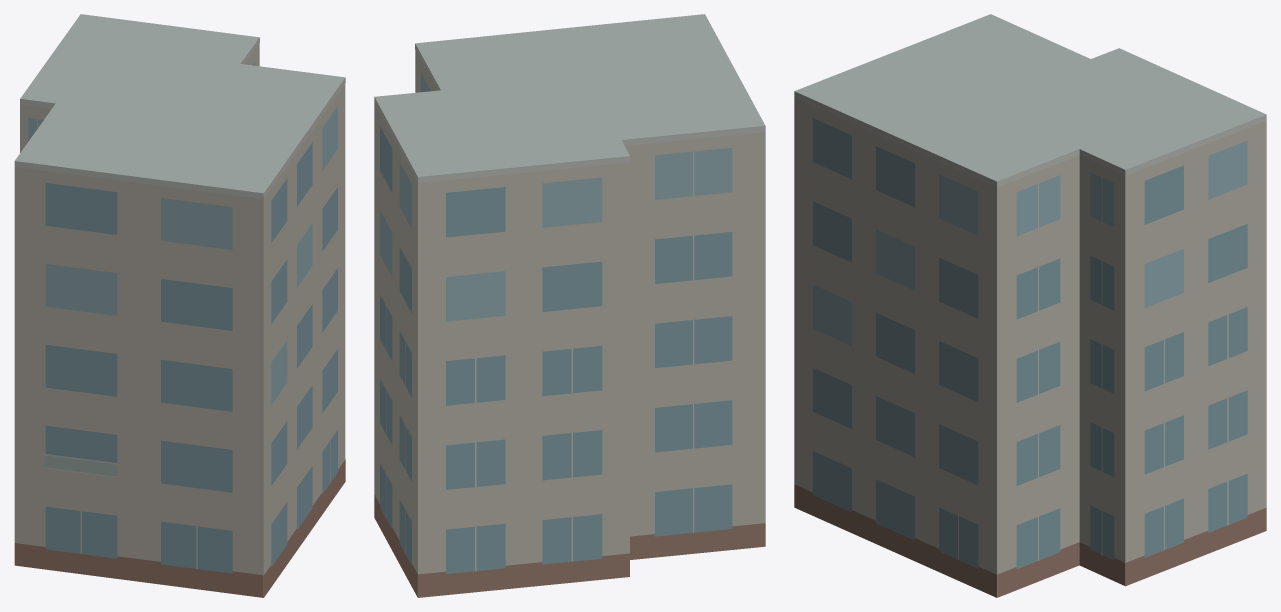
File: survey-upis-32713001.glb
The picture shows the model from 3 angles, left to right: view 1: azimuth 30°, elevation 25°; view 2: azimuth 150°, elevation 25°; view 3: azimuth 270°, elevation 25°; orthographic projection. The views are drawn at different scales.
Visible parts, largest first — view 1: survey-upis-32713001.tmp; view 2: survey-upis-32713001.tmp; view 3: survey-upis-32713001.tmp.
Part boxes in pixels (x1,y1,x2,y2): survey-upis-32713001.tmp: (14,14,345,597); survey-upis-32713001.tmp: (374,14,765,597); survey-upis-32713001.tmp: (794,14,1266,597).
Size of the model in its own units: 14.3 by 16.55 by 17.03.
